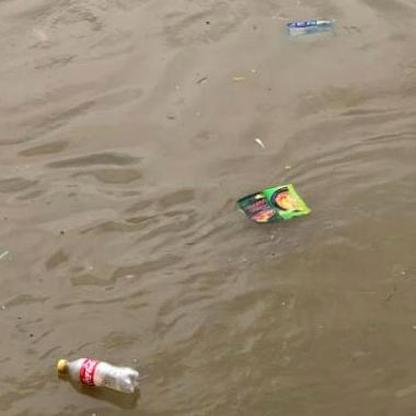plastic bag: (236, 183, 311, 223), (288, 19, 338, 43)
plastic bottle: (56, 358, 140, 393)
